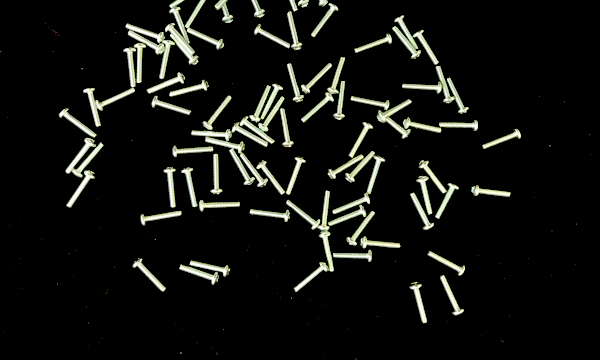longscrew: (58, 107, 100, 140), (66, 170, 100, 210), (71, 141, 106, 179), (132, 257, 167, 294), (438, 274, 467, 317), (293, 261, 330, 294), (65, 137, 97, 175), (202, 94, 234, 131), (256, 159, 287, 197), (284, 199, 322, 230), (227, 148, 256, 188), (164, 21, 197, 56), (301, 91, 336, 124), (408, 191, 436, 232), (346, 210, 377, 247), (239, 151, 269, 189), (427, 249, 467, 277), (377, 109, 412, 141), (95, 86, 138, 112), (240, 115, 276, 146), (418, 159, 449, 195), (311, 2, 341, 39), (392, 25, 422, 61), (258, 95, 287, 132), (253, 22, 291, 50), (259, 83, 287, 121), (347, 121, 375, 159), (301, 62, 334, 94), (345, 150, 377, 183), (169, 32, 200, 66), (185, 26, 227, 51), (413, 28, 440, 66), (434, 183, 461, 221), (231, 122, 270, 148), (393, 14, 420, 51), (145, 72, 188, 95), (178, 263, 221, 286), (327, 154, 365, 180), (151, 94, 193, 117), (481, 128, 523, 151), (376, 98, 413, 124), (447, 76, 471, 116), (127, 30, 165, 55), (124, 22, 167, 44), (249, 83, 272, 124), (286, 155, 309, 196), (331, 193, 372, 216), (434, 64, 457, 105), (169, 6, 193, 45), (327, 205, 369, 227), (409, 281, 430, 325), (326, 55, 348, 96), (365, 155, 387, 196), (82, 86, 103, 128), (189, 258, 232, 278), (353, 33, 393, 54), (285, 10, 305, 51), (286, 62, 306, 103), (169, 80, 212, 99), (181, 166, 200, 209), (184, 0, 212, 29), (319, 229, 337, 274), (140, 209, 184, 227), (416, 175, 435, 216), (158, 38, 176, 80), (204, 136, 246, 154), (350, 94, 391, 112), (402, 117, 443, 135), (162, 166, 179, 209), (249, 208, 292, 225), (316, 189, 333, 232), (279, 107, 295, 149), (199, 199, 242, 214), (360, 235, 403, 250), (470, 184, 512, 199), (171, 145, 215, 159), (123, 47, 138, 88), (401, 81, 444, 95), (333, 249, 375, 263), (438, 119, 480, 133), (333, 80, 347, 121), (190, 128, 234, 141), (211, 152, 224, 196), (134, 43, 147, 84), (214, 0, 236, 24), (243, 0, 268, 19), (213, 0, 247, 11), (169, 0, 206, 9), (277, 0, 301, 13), (298, 0, 330, 7), (289, 0, 311, 7)
